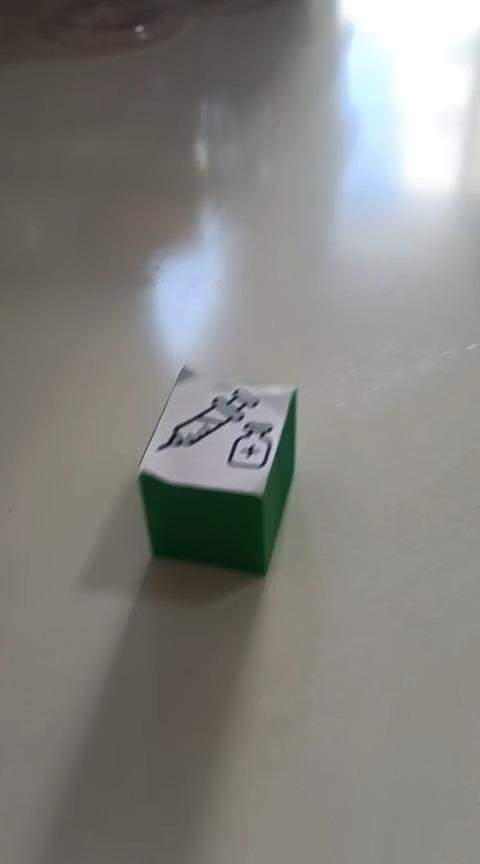antiseptic cream: (135, 363, 299, 576)
